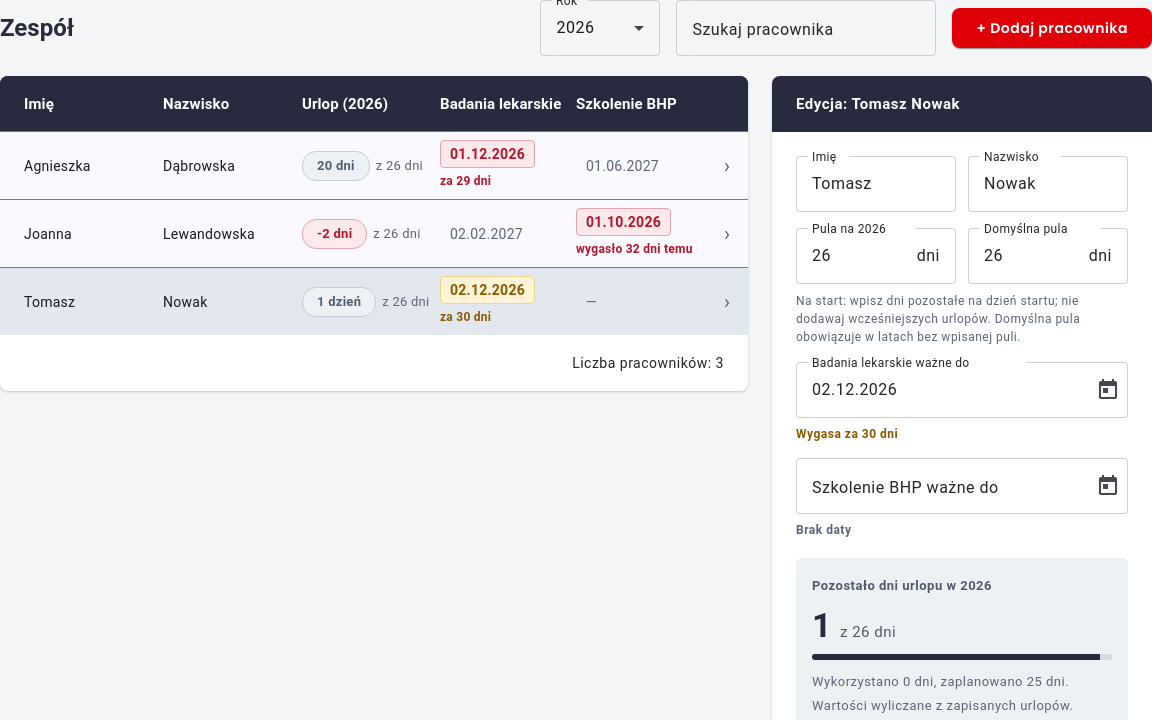
Test case: TeamComponent › opens the calendar when the date field is clicked
Click the field with test id "bhp-date": click(948, 486) top-left (812, 474), bottom-right (1084, 498)
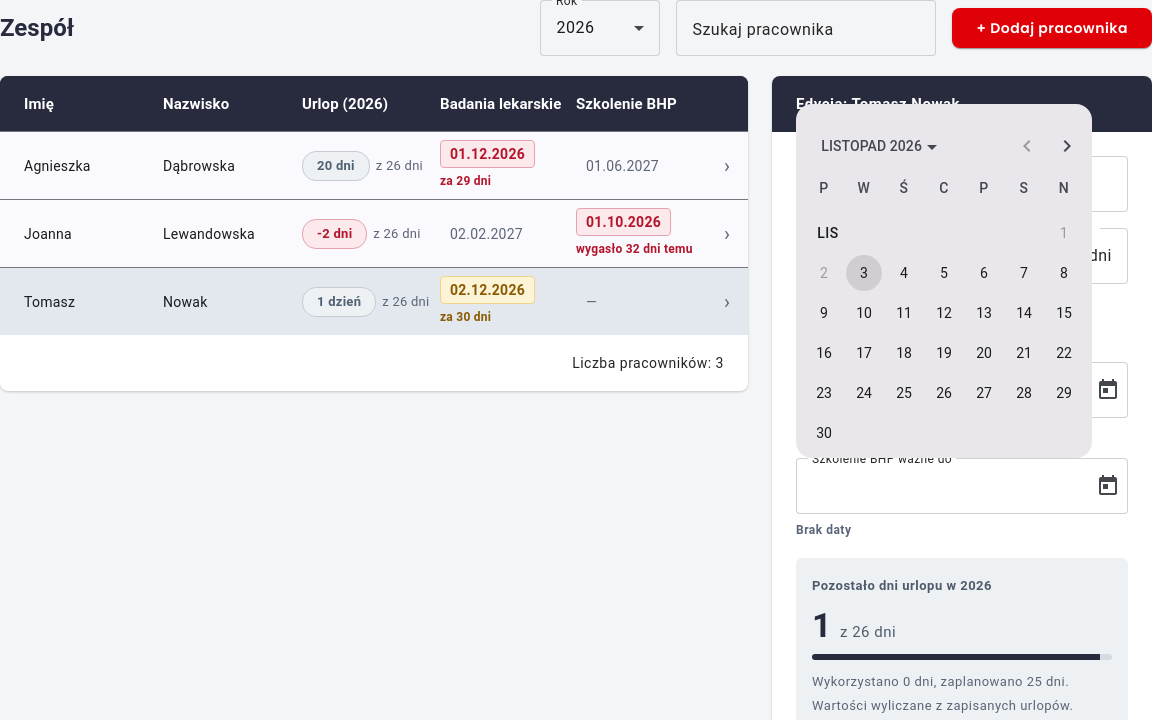
Expected: the element that starts with "LISTOPAD 2026" is shown, top-left (796, 104), bottom-right (1092, 458)
